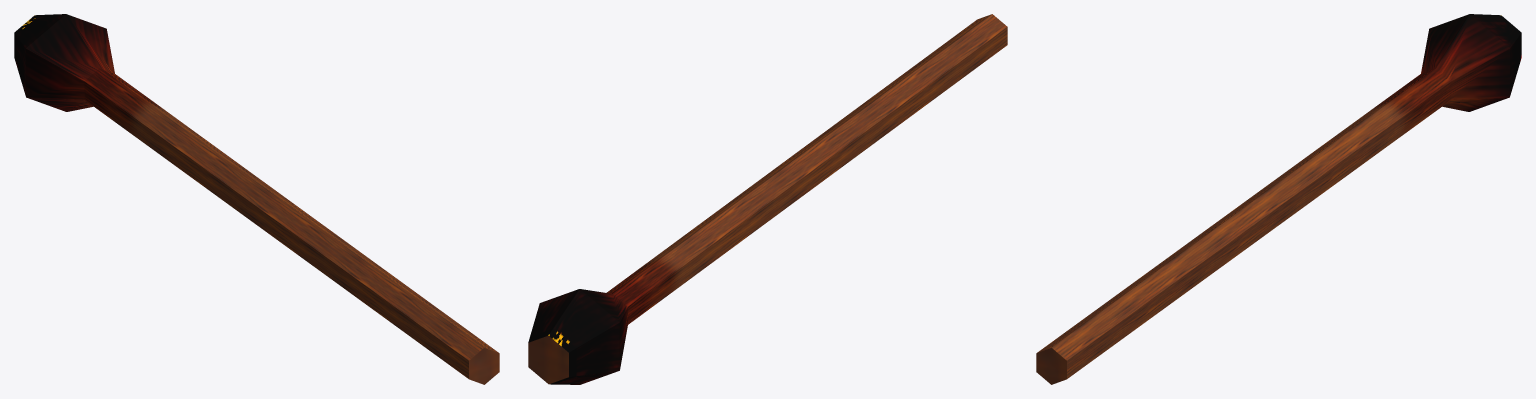
Rendered from torch.glb.
3 renders of one model, left to right at view 1: azimuth 30°, elevation 25°; view 2: azimuth 150°, elevation 25°; view 3: azimuth 330°, elevation 25°, orthographic.
Parts seen in each view (by area): view 1: Cylinder; view 2: Cylinder; view 3: Cylinder.
Part boxes in pixels (<box>): Cylinder: <box>14,14,499,384</box>; Cylinder: <box>528,14,1007,384</box>; Cylinder: <box>1036,14,1521,384</box>.
Size of the model in its own units: 0.0341 by 0.0393 by 0.3281.
Materials: 1 (1 with a texture image).
